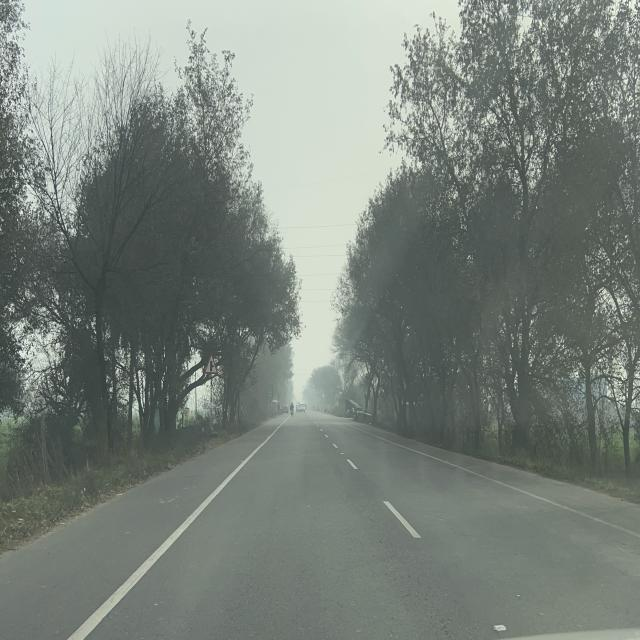SIDE_ROAD_RIGHT: (204, 353, 218, 374)
